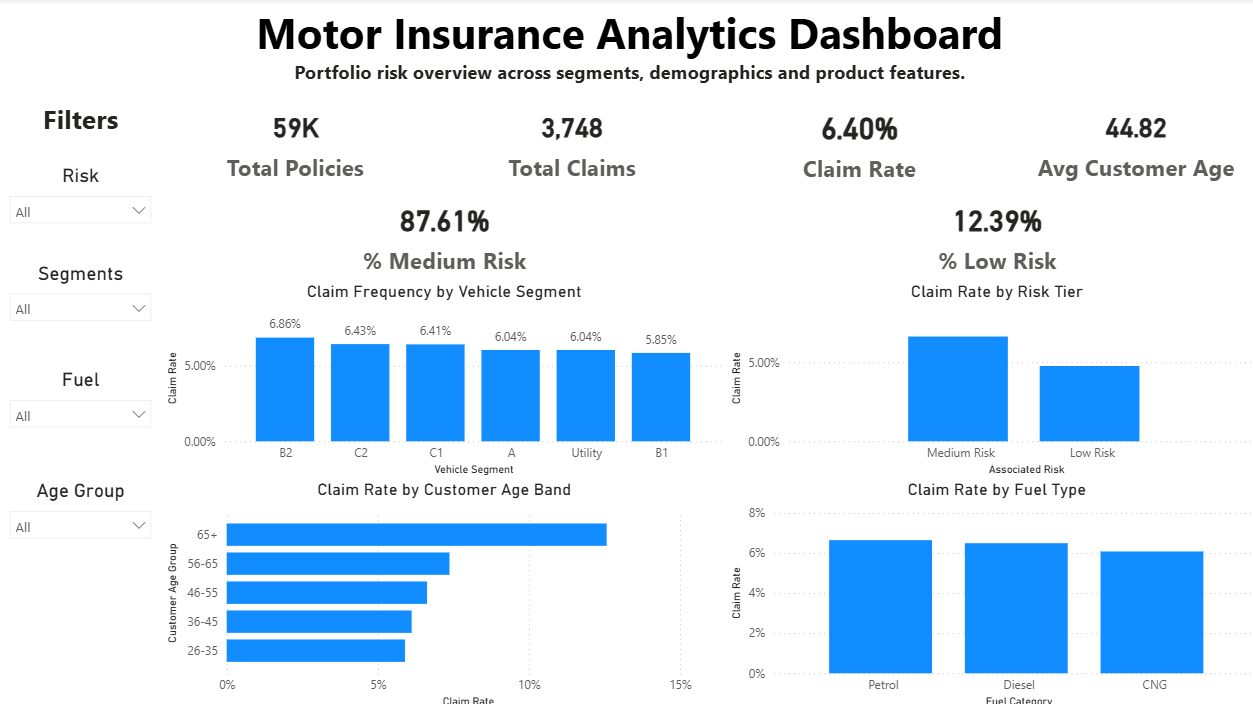

The dashboard page shown, as its layout file describes it:
{"tool":"powerbi","page":{"name":"Executive Risk Overview","canvas":[1280,720],"ordinal":0},"visuals":[{"type":"card","title":"Total Policies","fields":{"Values":["insurance_claims_cleaned.Total Policies"]},"box":[162.9,98.6,268.6,92.9],"z":0},{"type":"card","fields":{"Values":["insurance_claims_cleaned.Claim Rate"]},"box":[722.9,98.6,290,92.9],"z":1000},{"type":"card","fields":{"Values":["insurance_claims_cleaned.% Medium Risk"]},"box":[162.9,191.4,570,94.3],"z":2000},{"type":"card","fields":{"Values":["insurance_claims_cleaned.Total Claims"]},"box":[431.4,98.6,291.4,92.9],"z":3000},{"type":"card","fields":{"Values":["insurance_claims_cleaned.Avg Customer Age"]},"box":[1012.9,98.6,267.1,92.9],"z":4000},{"type":"card","fields":{"Values":["insurance_claims_cleaned.% Low Risk"]},"box":[732.9,191.4,547.1,94.3],"z":5000},{"type":"clusteredColumnChart","title":"Claim Frequency by Vehicle Segment","fields":{"Y":["insurance_claims_cleaned.Claim Rate"],"Category":["insurance_claims_cleaned.segment"]},"box":[162.9,285.7,570,200],"z":6000},{"type":"clusteredColumnChart","title":"Claim Rate by Risk Tier","fields":{"Category":["insurance_claims_cleaned.risk_tier"],"Y":["insurance_claims_cleaned.Claim Rate"]},"box":[732.9,285.7,547.1,200],"z":7000},{"type":"clusteredBarChart","title":"Claim Rate by Customer Age Band","fields":{"Category":["insurance_claims_cleaned.customer_age_band"],"Y":["insurance_claims_cleaned.Claim Rate"]},"box":[162.9,485.7,570,234.3],"z":8000},{"type":"clusteredColumnChart","title":"Claim Rate by Fuel Type","fields":{"Y":["insurance_claims_cleaned.Claim Rate"],"Category":["insurance_claims_cleaned.fuel_type"]},"box":[732.9,485.7,547.1,234.3],"z":9000},{"type":"slicer","title":"Segments","fields":{"Values":["insurance_claims_cleaned.segment"]},"box":[0,267.1,162.9,107.1],"z":10000},{"type":"slicer","title":"Fuel","fields":{"Values":["insurance_claims_cleaned.fuel_type"]},"box":[0,374.3,162.9,111.4],"z":12000},{"type":"slicer","title":"Risk","fields":{"Values":["insurance_claims_cleaned.risk_tier"]},"box":[0,168.6,162.9,98.6],"z":12500},{"type":"slicer","title":"Age Group","fields":{"Values":["insurance_claims_cleaned.customer_age_band"]},"box":[0,485.7,162.9,108.6],"z":13000},{"type":"textbox","box":[0,0,1280,98.6],"z":13001},{"type":"textbox","box":[0,98.6,162.9,70],"z":13002}]}

Visuals, with their boxes in screenshot pixels (x1, y1, x2, y2), scaled from the page's 1280x720 canvas onto the 1253x704 screenshot:
"Total Policies" card: 159/96/422/187
card - insurance_claims_cleaned.Claim Rate: 708/96/992/187
card - insurance_claims_cleaned.% Medium Risk: 159/187/717/279
card - insurance_claims_cleaned.Total Claims: 422/96/708/187
card - insurance_claims_cleaned.Avg Customer Age: 992/96/1252/187
card - insurance_claims_cleaned.% Low Risk: 717/187/1252/279
"Claim Frequency by Vehicle Segment" clusteredColumnChart: 159/279/717/475
"Claim Rate by Risk Tier" clusteredColumnChart: 717/279/1252/475
"Claim Rate by Customer Age Band" clusteredBarChart: 159/475/717/703
"Claim Rate by Fuel Type" clusteredColumnChart: 717/475/1252/703
"Segments" slicer: 0/261/159/366
"Fuel" slicer: 0/366/159/475
"Risk" slicer: 0/165/159/261
"Age Group" slicer: 0/475/159/581
textbox: 0/0/1252/96
textbox: 0/96/159/165
